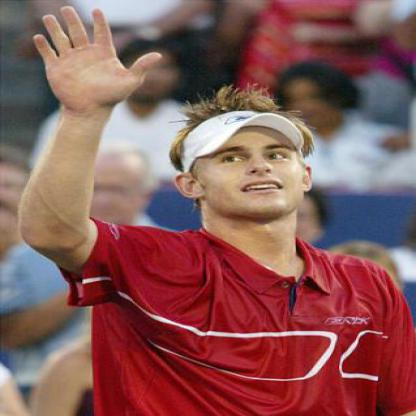face: (189, 106, 311, 220), (76, 152, 149, 228), (276, 70, 338, 127), (127, 42, 183, 99)
